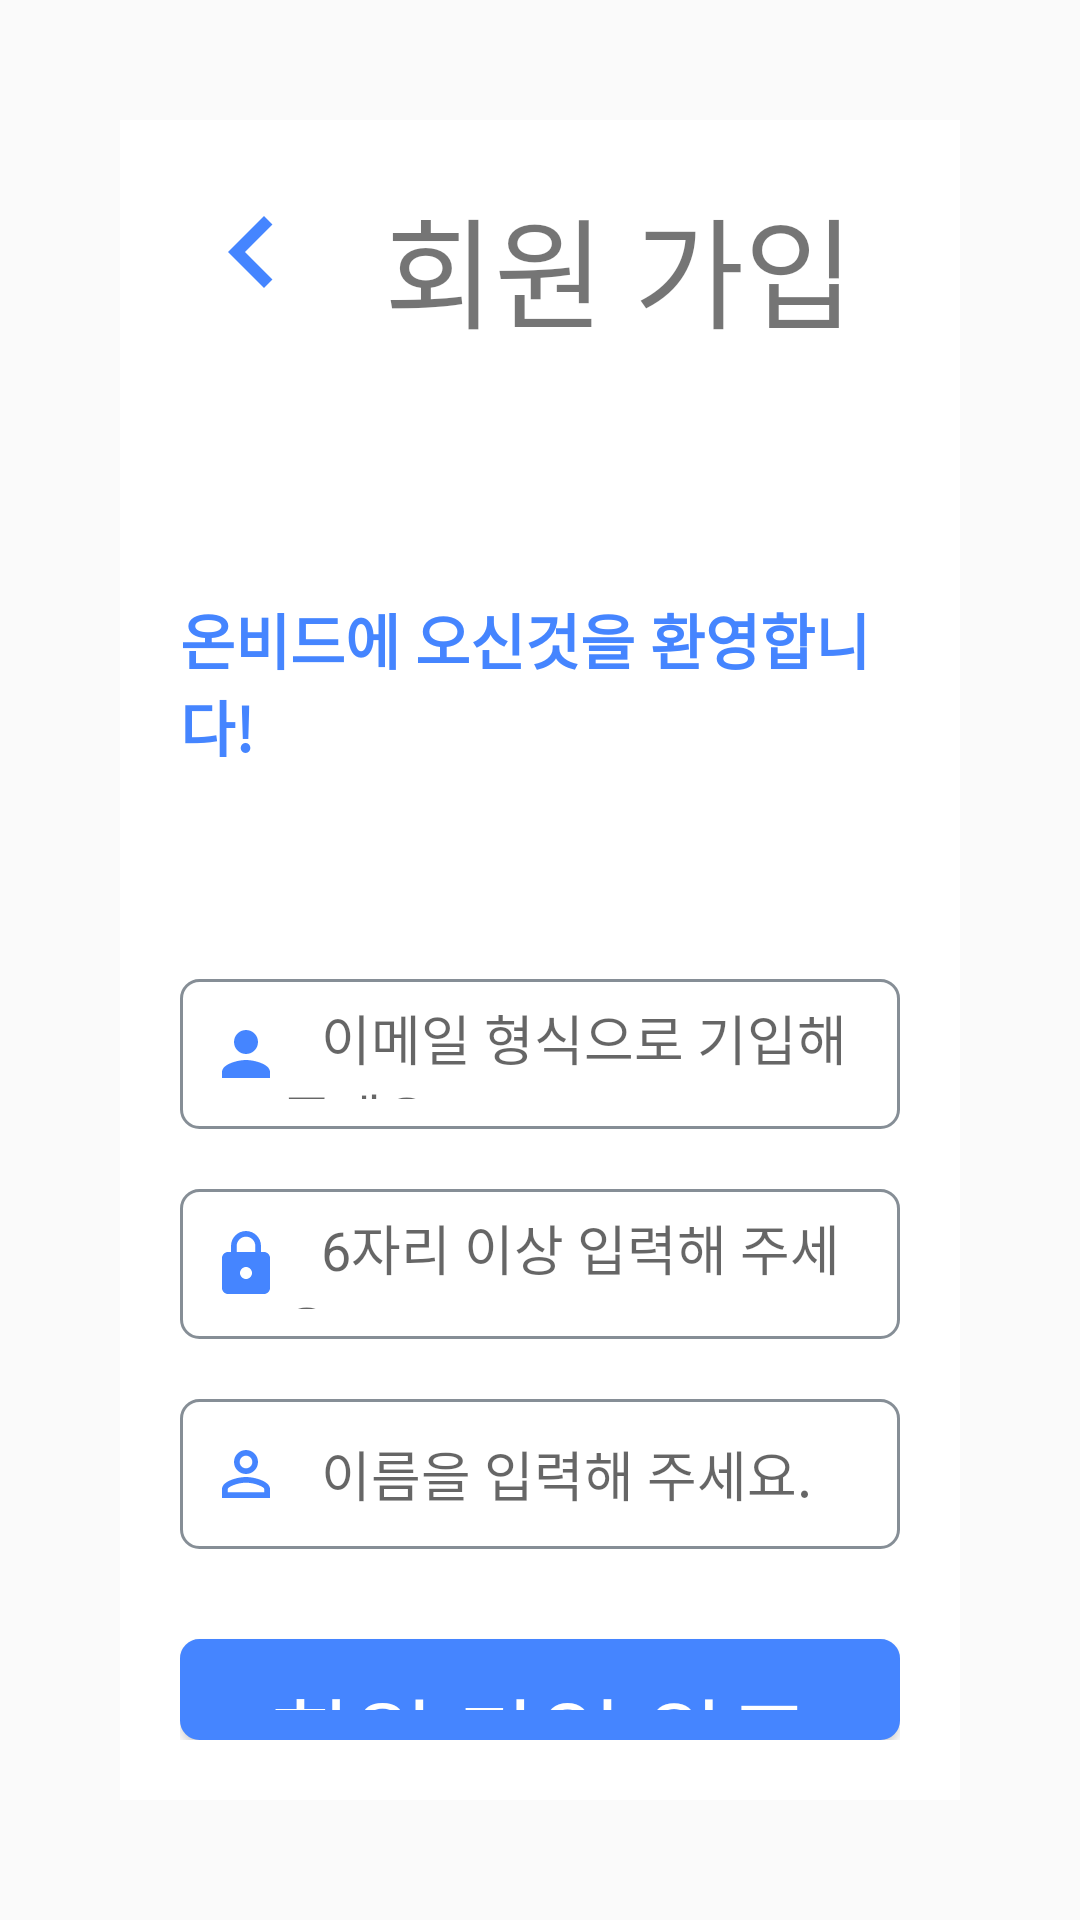

Icons on this 1080×1920 Android screen, each with the point to tap as [x,y]:
keyboard arrow left: [250,252]
